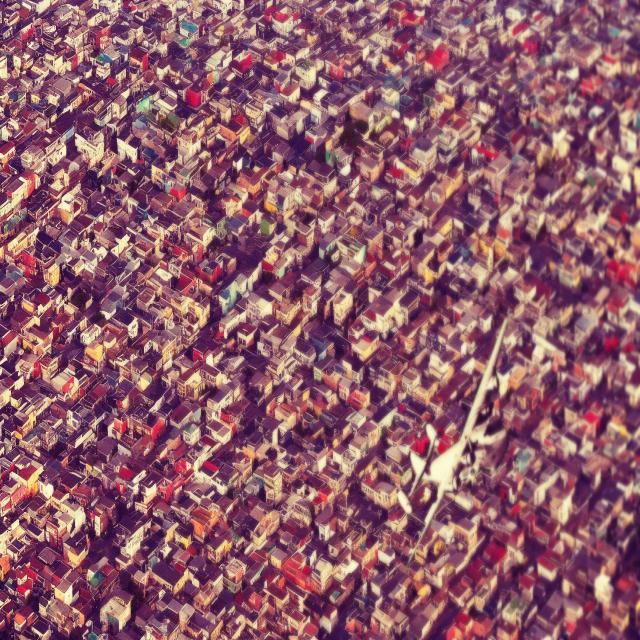airplane: (397, 316, 512, 567)
